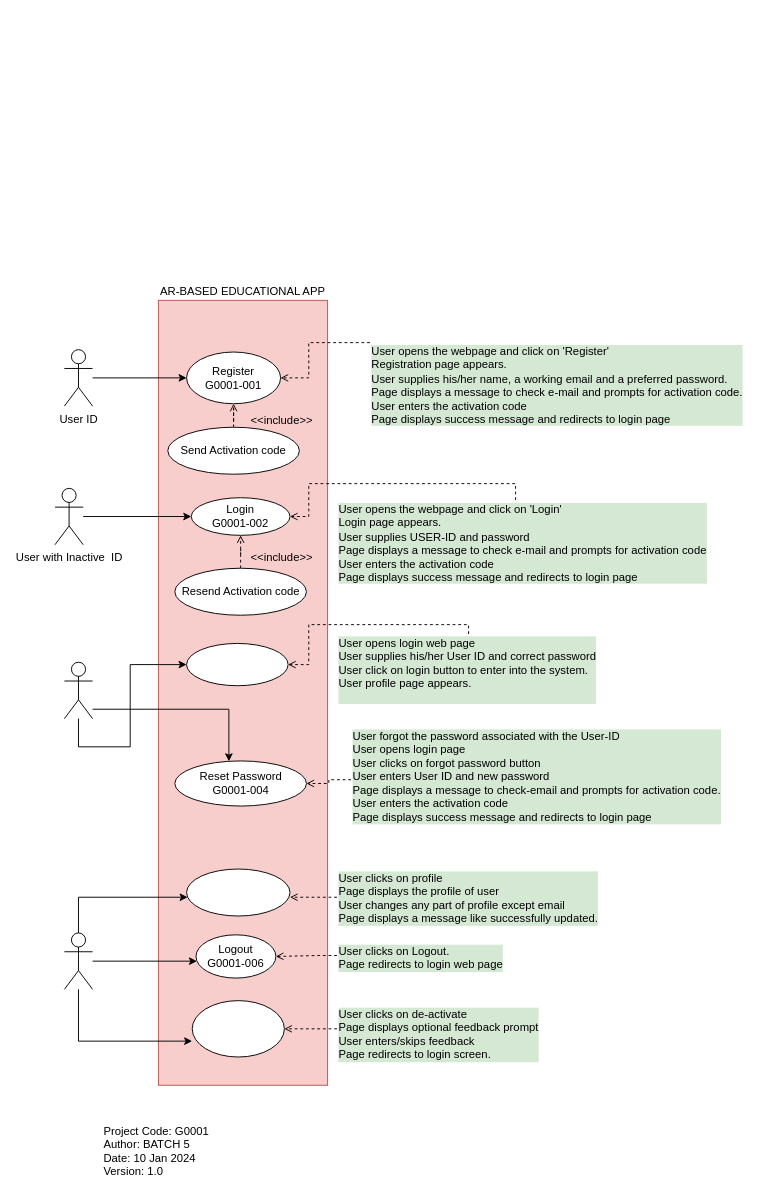
This 772x1194 diagram has some shape labels left out. The shapes that lost their labels are listed below. From the top down, each one's centre as x and y in pixels, then its label:
At [237,664]: "Login G0001-003".
At [78,690]: "User with Active ID (Not Logged-in)".
At [238,892]: "Change Profile G0001-005".
At [78,960]: "User with Active ID (Logged-in)".
At [237,1028]: "De-activate Account G0001-007".
